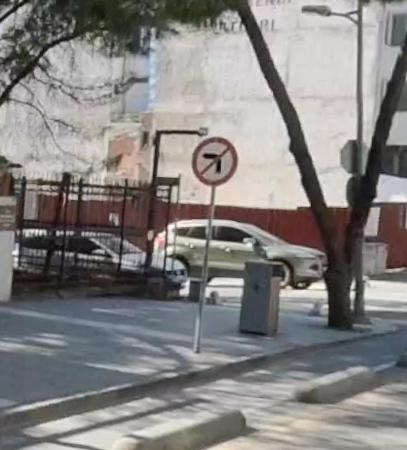leftturnsareforbidden: (192, 138, 239, 185)
